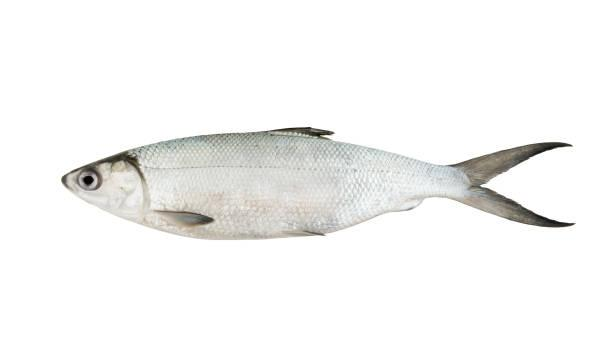Bangus: (62, 126, 577, 249)
